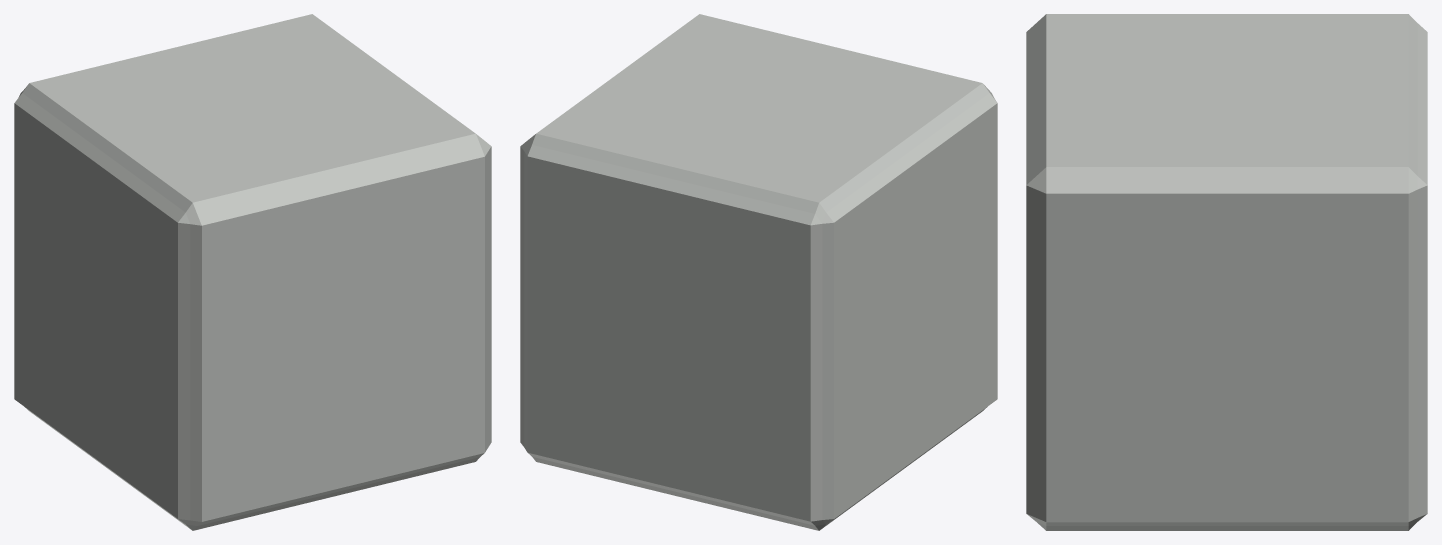
The model's file is OneCube.obj.
3 renders of one model, left to right at view 1: azimuth 30°, elevation 25°; view 2: azimuth 150°, elevation 25°; view 3: azimuth 270°, elevation 25°, orthographic. The views are drawn at different scales.
Visible parts, largest first — view 1: ミノ; view 2: ミノ; view 3: ミノ.
Boxes of the visible parts, x1,y1,x2,y2 form: ミノ: [14, 14, 491, 530]; ミノ: [520, 14, 997, 530]; ミノ: [1026, 14, 1427, 530].
Bounding box in the file's own units: 2 × 2 × 2.
